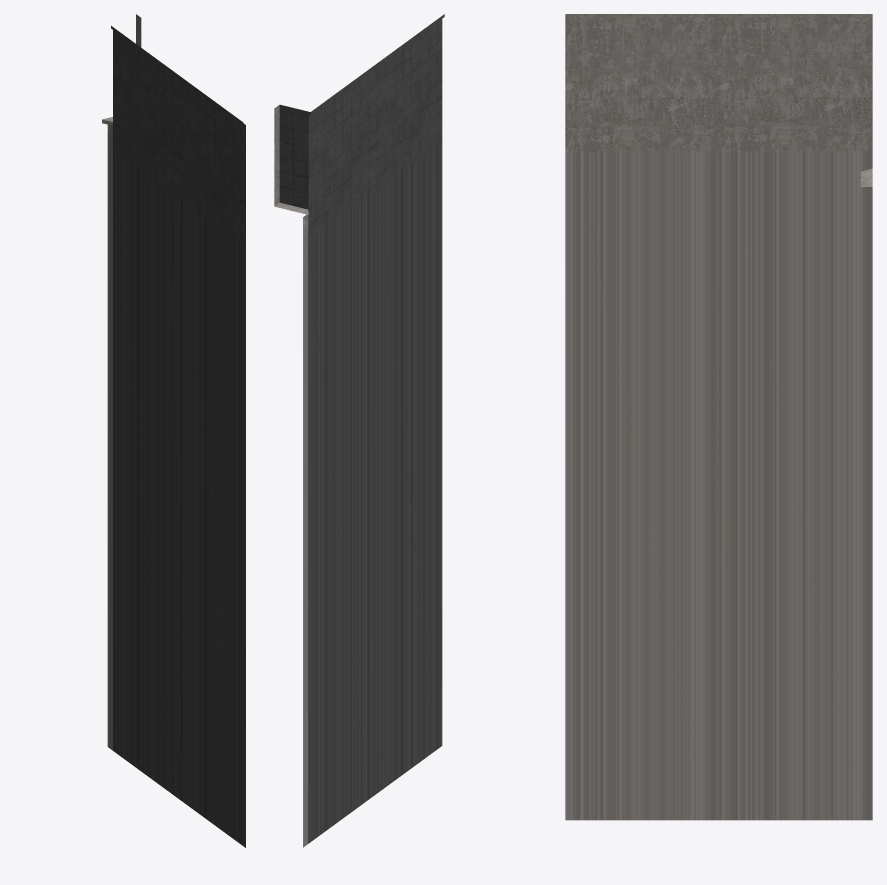
Rendered from tunnel_end.glb.
3 views of the same model, side by side, from view 1: azimuth 30°, elevation 25°; view 2: azimuth 150°, elevation 25°; view 3: azimuth 270°, elevation 25° (orthographic). The views are drawn at different scales.
Parts seen in each view (by area): view 1: St_05; view 2: St_05; view 3: St_05.
Part boxes in pixels (x1,y1,x2,y2): St_05: (102, 14, 245, 847); St_05: (274, 14, 444, 847); St_05: (565, 14, 872, 820).
Bounding box in the file's own units: 6.37 × 36.26 × 12.52.
2 materials, 2 textured.
